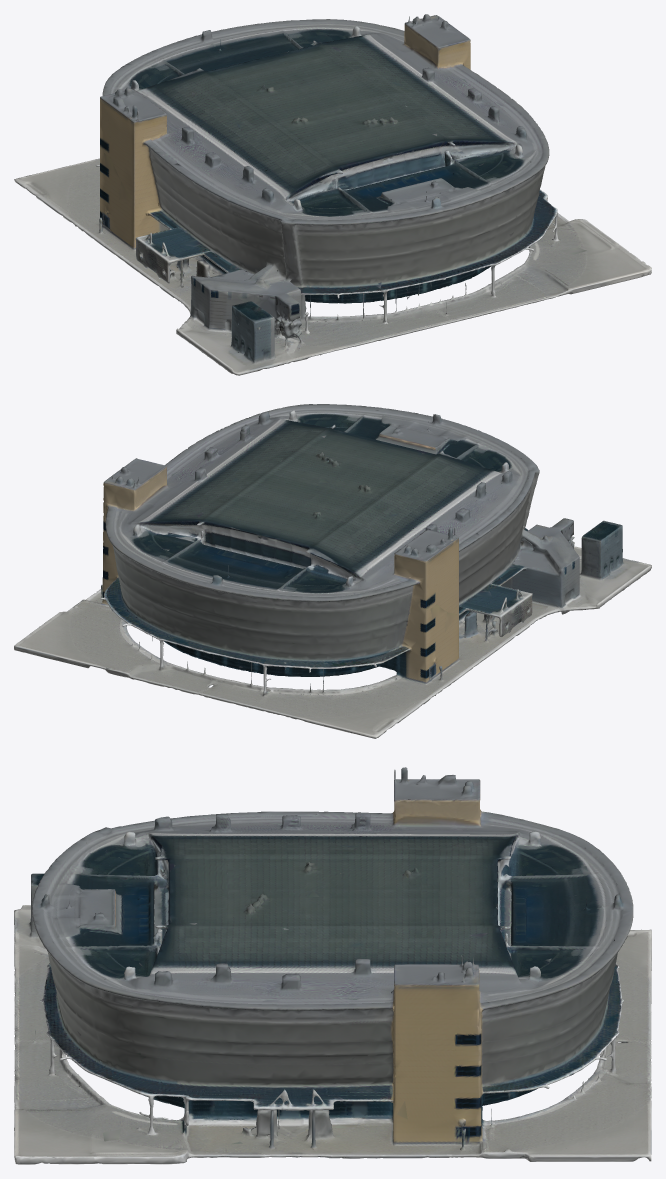
The model's file is ice-palace-cherepovets.glb.
3 views of the same model, one above another, from view 1: azimuth 30°, elevation 25°; view 2: azimuth 150°, elevation 25°; view 3: azimuth 270°, elevation 25° (orthographic). The views are drawn at different scales.
Size of the model in its own units: 1.8 by 0.6082 by 1.91.
Materials: 1 (1 with a texture image).
